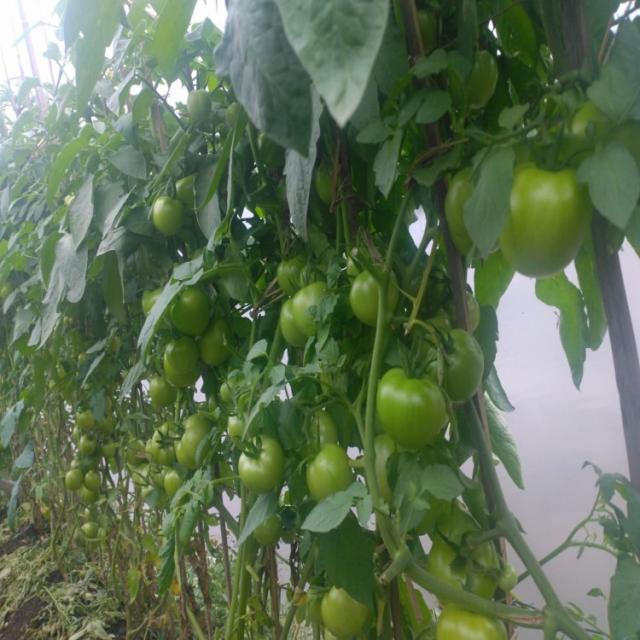tomato: (496, 164, 598, 277), (372, 366, 453, 441), (431, 518, 499, 605), (430, 316, 488, 397), (445, 51, 510, 111), (576, 103, 640, 162), (349, 260, 400, 324), (306, 445, 357, 498), (319, 588, 372, 638), (428, 607, 506, 640), (236, 437, 282, 491), (449, 167, 480, 244), (371, 440, 408, 503), (161, 336, 208, 384), (168, 289, 210, 333), (444, 290, 483, 333), (183, 416, 215, 467), (297, 284, 333, 329), (274, 300, 310, 345), (147, 417, 179, 465), (202, 320, 233, 369), (155, 471, 190, 511), (275, 256, 312, 292), (420, 6, 450, 48), (151, 193, 183, 230), (184, 89, 214, 125), (151, 376, 183, 407), (255, 517, 286, 548), (174, 178, 207, 205), (144, 289, 172, 319), (228, 100, 252, 130), (99, 407, 121, 439), (77, 412, 101, 434), (128, 436, 145, 465), (81, 524, 104, 541), (77, 490, 97, 509), (83, 471, 106, 487), (101, 437, 117, 456), (67, 471, 82, 491), (79, 433, 96, 450), (81, 510, 99, 526)
